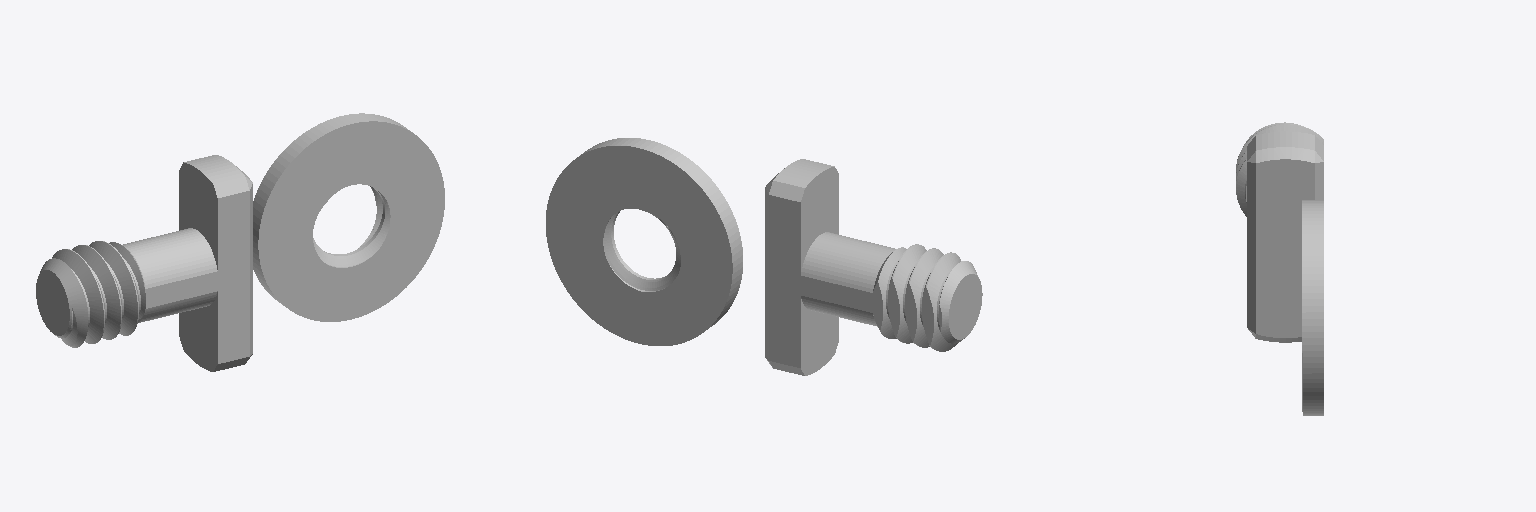
File: Camera_Screw.obj
3 views of the same model, side by side, from view 1: azimuth 30°, elevation 25°; view 2: azimuth 150°, elevation 25°; view 3: azimuth 270°, elevation 25° (orthographic).
Bounding box in the file's own units: 30.01 × 14 × 5.72.